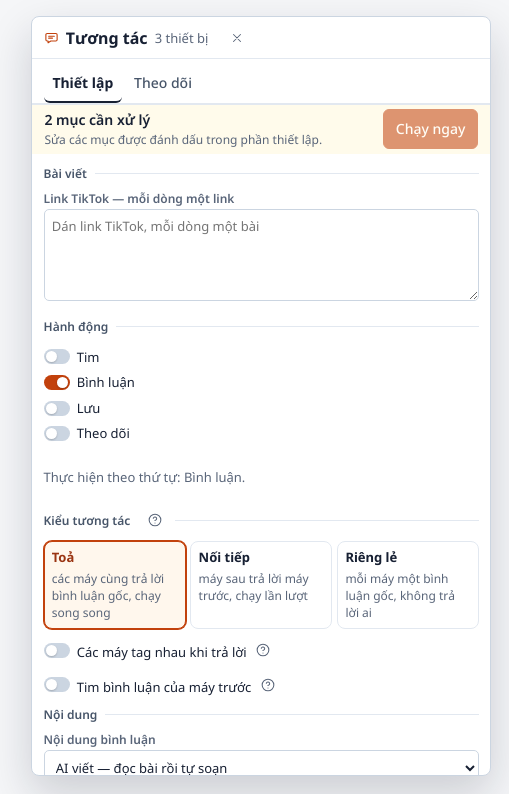
Test case: InteractionPopup › shows the teams the backend planned, not a copy of the split
The width and height of the screenshot is (509, 794).
Type "https://www.tiktok.com/@creator/video/123" into the text box labelled "Link TikTok — mỗi dòng một link". click: (261,255)
box: [44,209,479,301]
(page scrolled)
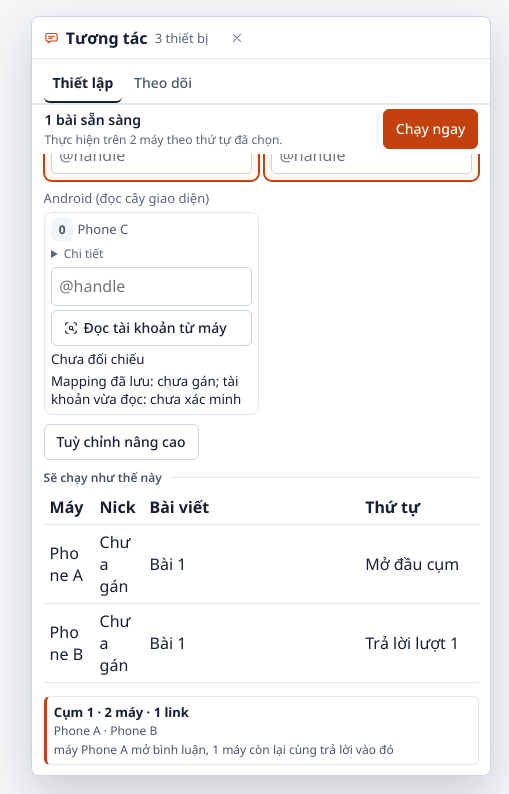
Result: the text "Cụm 1 · 2 máy · 1 link" is shown at [54,703,189,721]
